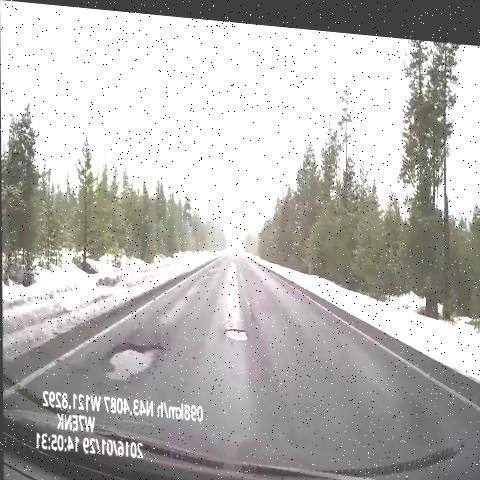pothole: (99, 331, 169, 392), (219, 312, 250, 350)
